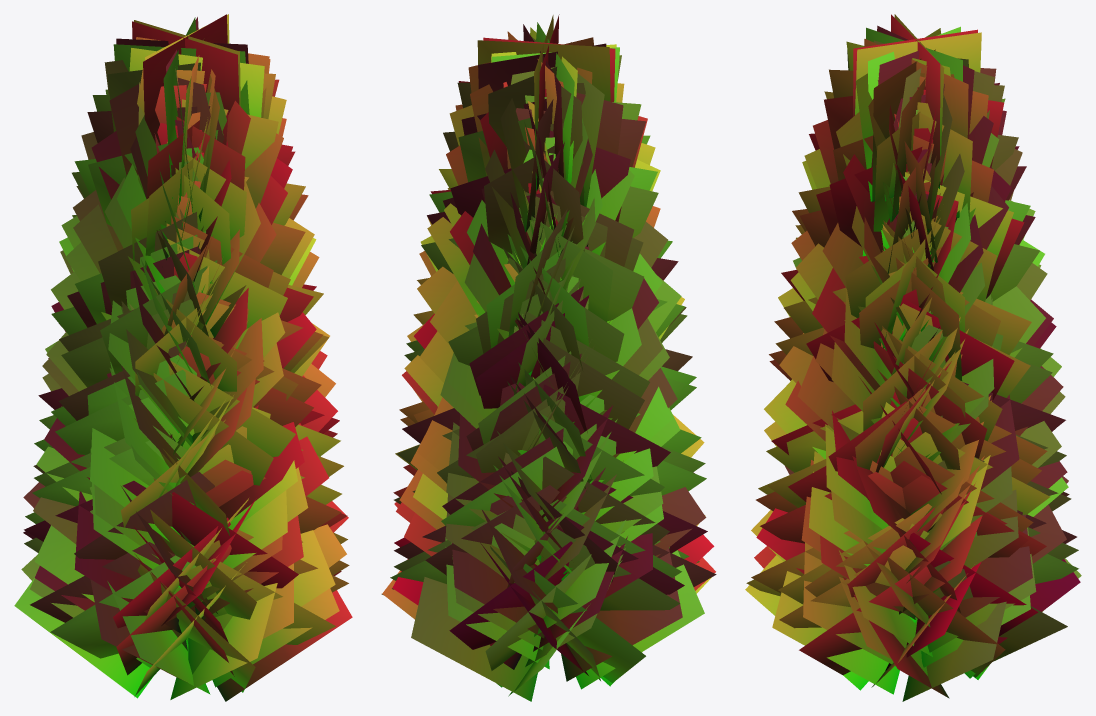
The model's file is URP_P4_Tree_7_LOD_1.fbx.
The picture shows the model from 3 angles, left to right: view 1: azimuth 30°, elevation 25°; view 2: azimuth 150°, elevation 25°; view 3: azimuth 270°, elevation 25°; orthographic projection.
Visible parts, largest first — view 1: Tree_7_LOD_1; view 2: Tree_7_LOD_1; view 3: Tree_7_LOD_1.
Part boxes in pixels (bbox=[...]): Tree_7_LOD_1: bbox=[14, 14, 352, 701]; Tree_7_LOD_1: bbox=[381, 14, 716, 701]; Tree_7_LOD_1: bbox=[745, 14, 1081, 701].
Bounding box in the file's own units: 214 × 448 × 214.
